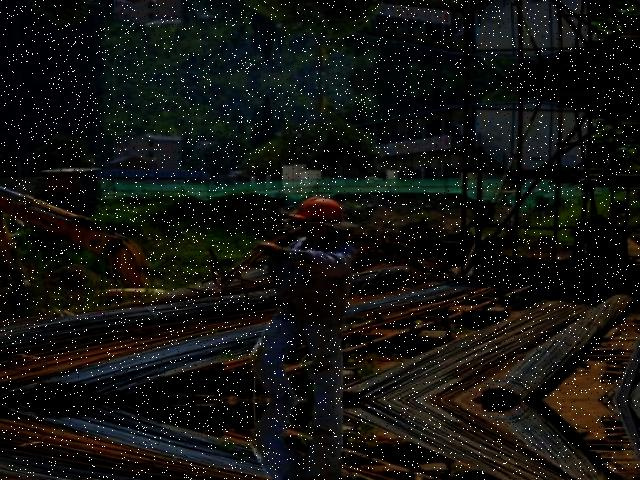Helmet: (282, 192, 350, 232)
